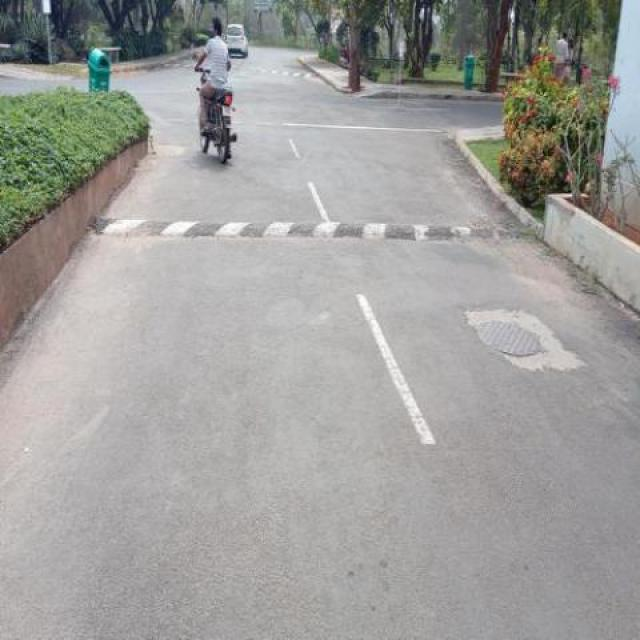Speed Bump: (92, 210, 536, 240)
